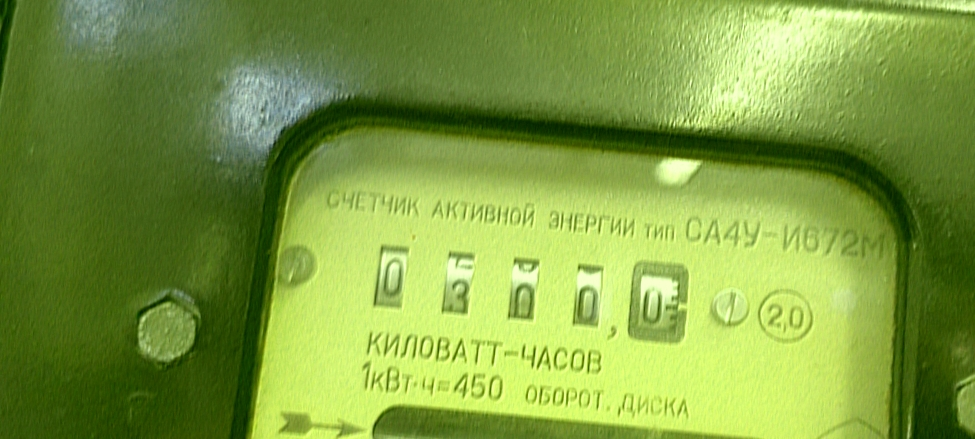0: (574, 283, 603, 328), (380, 254, 407, 302), (639, 284, 667, 329), (511, 280, 537, 323)
3: (446, 276, 472, 317)
screen: (351, 221, 713, 363)
